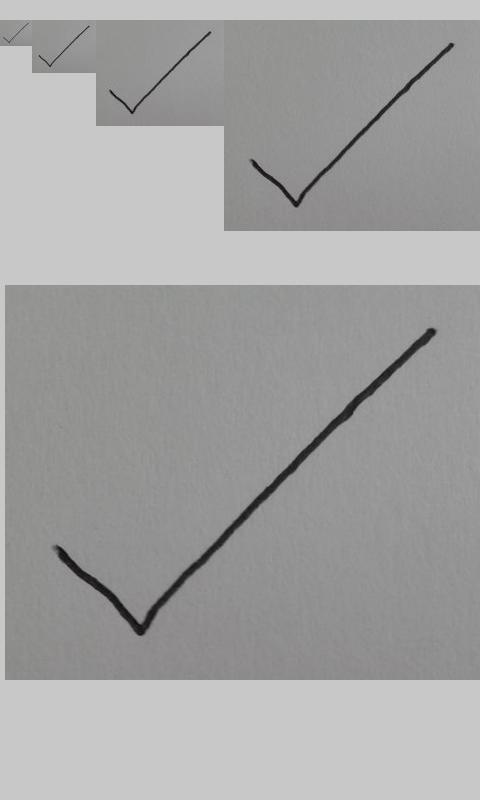check_box: (54, 329, 436, 636), (251, 43, 453, 208), (110, 31, 211, 114), (38, 25, 90, 68), (3, 23, 27, 44)
